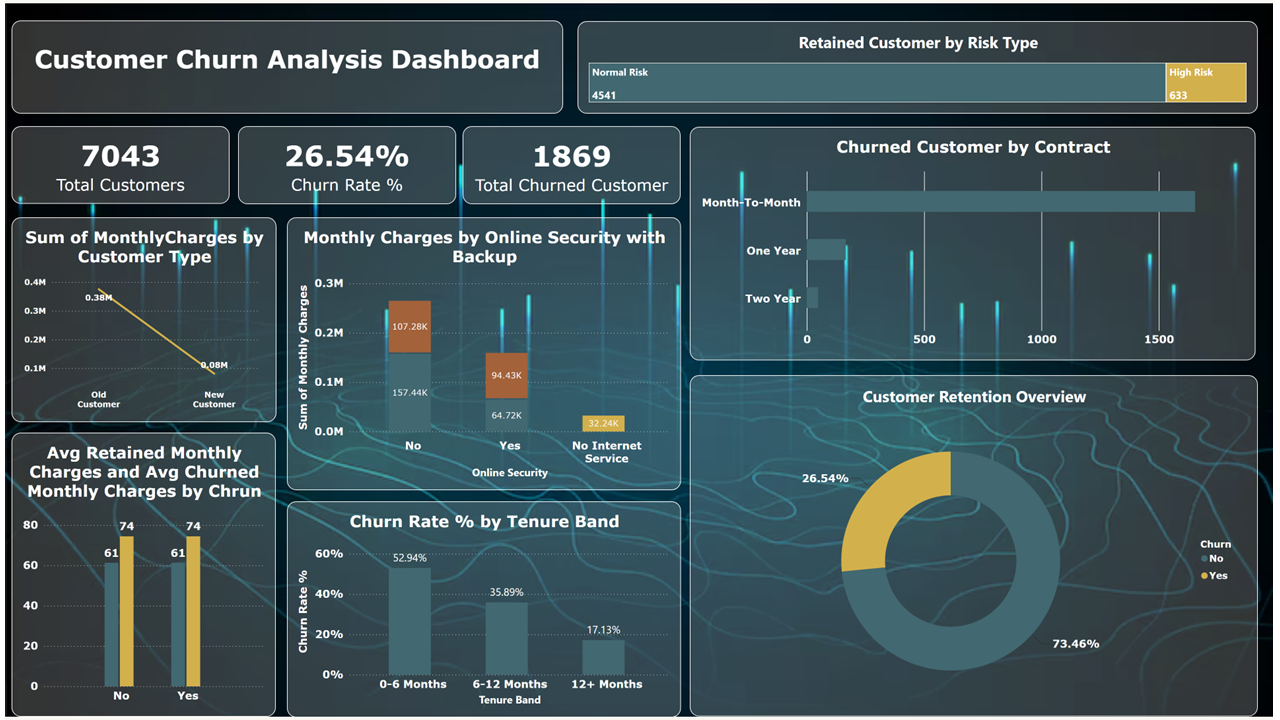

Layout of this report page (visuals, bound fields, positions):
{"tool":"powerbi","page":{"name":"Dashboard","canvas":[1920,1080],"ordinal":0},"visuals":[{"type":"textbox","box":[9.5,26.2,835.1,140.8],"z":0},{"type":"treemap","title":"Retained Customer by Risk Type","fields":{"Group":["customer churn raw data.Risk Type"],"Values":["Calculated Measure.Total Retained Customer"]},"box":[866.7,26.7,1030,140],"z":1000},{"type":"card","fields":{"Values":["Calculated Measure.Total Customers"]},"box":[10,186.2,330,117.5],"z":2000},{"type":"card","fields":{"Values":["Calculated Measure.Churn Rate %"]},"box":[352.5,186.2,330,117.8],"z":3000},{"type":"card","fields":{"Values":["Calculated Measure.Total Churned Customer"]},"box":[692.5,186.2,330,118],"z":4000},{"type":"donutChart","title":"Customer Retention Overview","fields":{"Category":["customer churn raw data.Churn"],"Y":["Calculated Measure.Total Customers"]},"box":[1036.7,563.3,860,516.7],"z":5000},{"type":"barChart","title":"Churned Customer by Contract","fields":{"Category":["customer churn raw data.Contract"],"Y":["Calculated Measure.Total Churned Customer"]},"box":[1036.7,186.7,856.7,353.3],"z":6000},{"type":"columnChart","title":"Monthly Charges by Online Security with Backup","fields":{"Category":["customer churn raw data.OnlineSecurity"],"Series":["customer churn raw data.OnlineBackup"],"Y":["Sum(customer churn raw data.MonthlyCharges)"]},"box":[427.1,324.5,596.5,412.8],"z":7000},{"type":"columnChart","fields":{"Category":["customer churn raw data.Tenure Band"],"Y":["Calculated Measure.Churn Rate %"]},"box":[427.1,753.9,596.5,326.9],"z":8000},{"type":"clusteredColumnChart","title":"Avg Retained Monthly Charges and Avg Churned Monthly Charges by Chrun","fields":{"Category":["customer churn raw data.Churn"],"Y":["Calculated Measure.Avg Retained Monthly Charge","Calculated Measure.Avg Churned Monthly Charge"]},"box":[10,650,400,430],"z":9000},{"type":"lineChart","fields":{"Category":["customer churn raw data.Customer Type"],"Y":["Sum(customer churn raw data.MonthlyCharges)"]},"box":[9.5,324.5,400.8,310.2],"z":10000}]}

Visuals, with their boxes in screenshot pixels (x1, y1, x2, y2), scaled from the page's 1920x1080 canvas onto the 1280x720 screenshot:
textbox: {"x1": 6, "y1": 17, "x2": 563, "y2": 111}
"Retained Customer by Risk Type" treemap: {"x1": 578, "y1": 18, "x2": 1264, "y2": 111}
card - Calculated Measure.Total Customers: {"x1": 7, "y1": 124, "x2": 227, "y2": 202}
card - Calculated Measure.Churn Rate %: {"x1": 235, "y1": 124, "x2": 455, "y2": 203}
card - Calculated Measure.Total Churned Customer: {"x1": 462, "y1": 124, "x2": 682, "y2": 203}
"Customer Retention Overview" donutChart: {"x1": 691, "y1": 376, "x2": 1264, "y2": 719}
"Churned Customer by Contract" barChart: {"x1": 691, "y1": 124, "x2": 1262, "y2": 360}
"Monthly Charges by Online Security with Backup" columnChart: {"x1": 285, "y1": 216, "x2": 682, "y2": 492}
columnChart - customer churn raw data.Tenure Band x Calculated Measure.Churn Rate %: {"x1": 285, "y1": 503, "x2": 682, "y2": 719}
"Avg Retained Monthly Charges and Avg Churned Monthly Charges by Chrun" clusteredColumnChart: {"x1": 7, "y1": 433, "x2": 273, "y2": 719}
lineChart - customer churn raw data.Customer Type x Sum(customer churn raw data.MonthlyCharges): {"x1": 6, "y1": 216, "x2": 274, "y2": 423}
